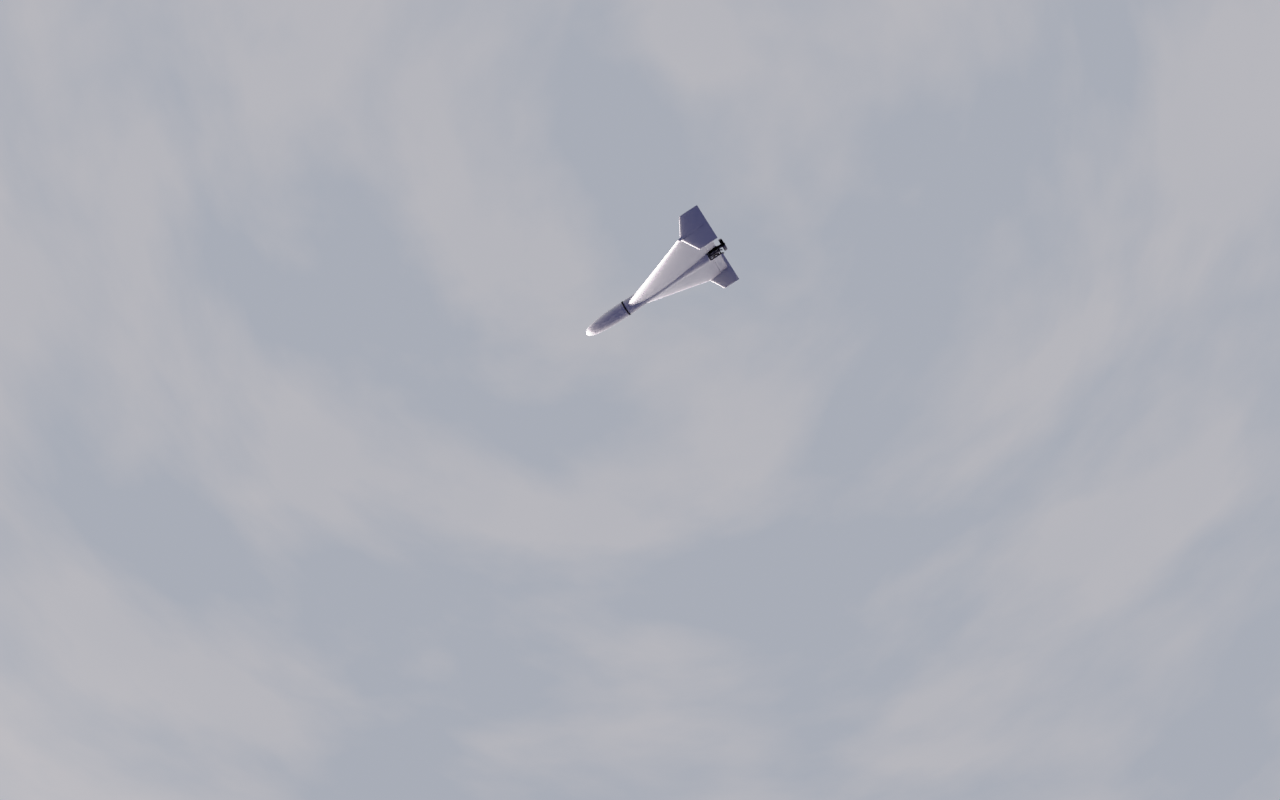shahed: (586, 205, 741, 338)
